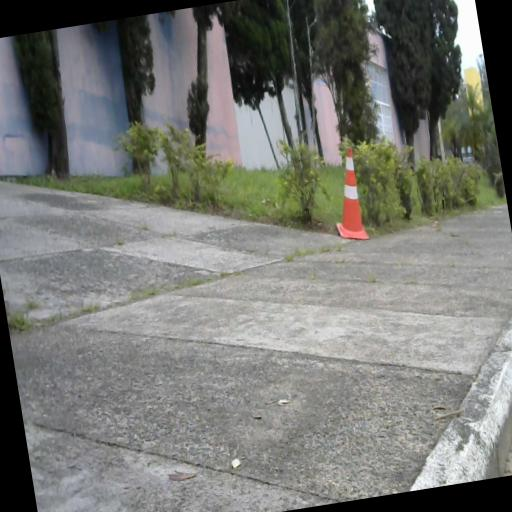cone: (324, 141, 369, 244)
